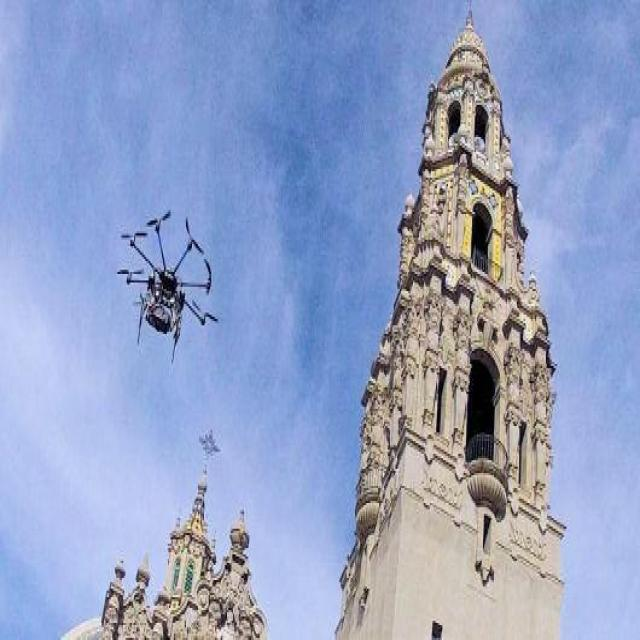drone: (118, 205, 219, 367)
